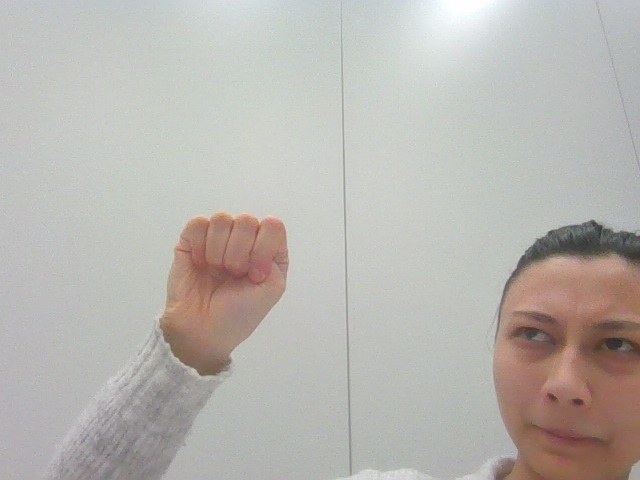down: (159, 208, 300, 361)
